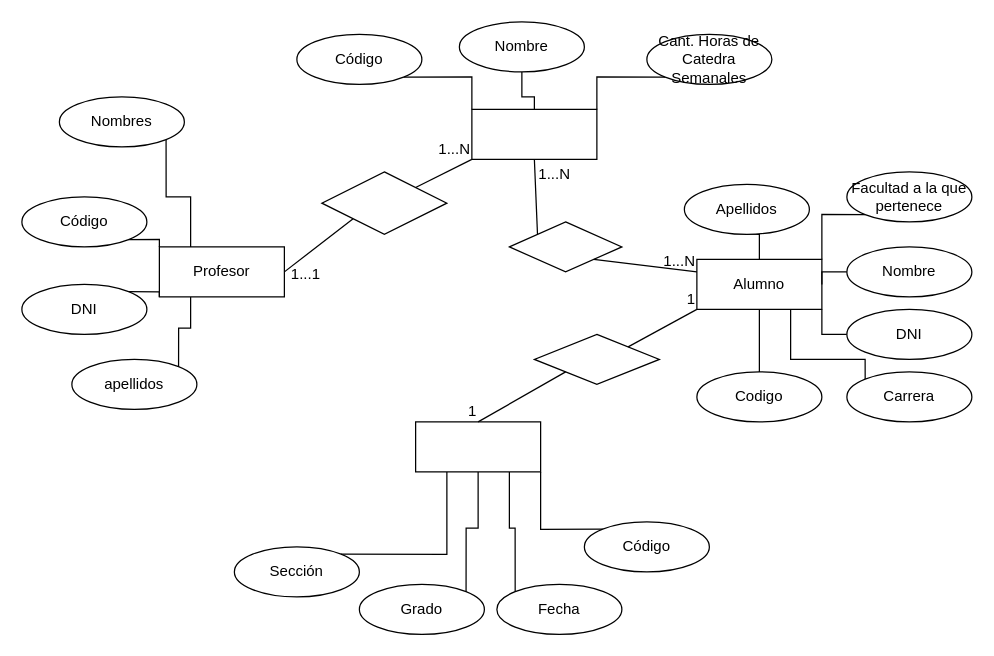
Image size: 994x656. Some labels were removed from this diagram. Each missing label, with the box of its shape:
Aprende: (508, 221, 622, 272)
Curso: (471, 108, 597, 159)
Dictado: (321, 171, 447, 234)
Matricula: (414, 421, 541, 472)
Unica: (533, 333, 659, 384)
